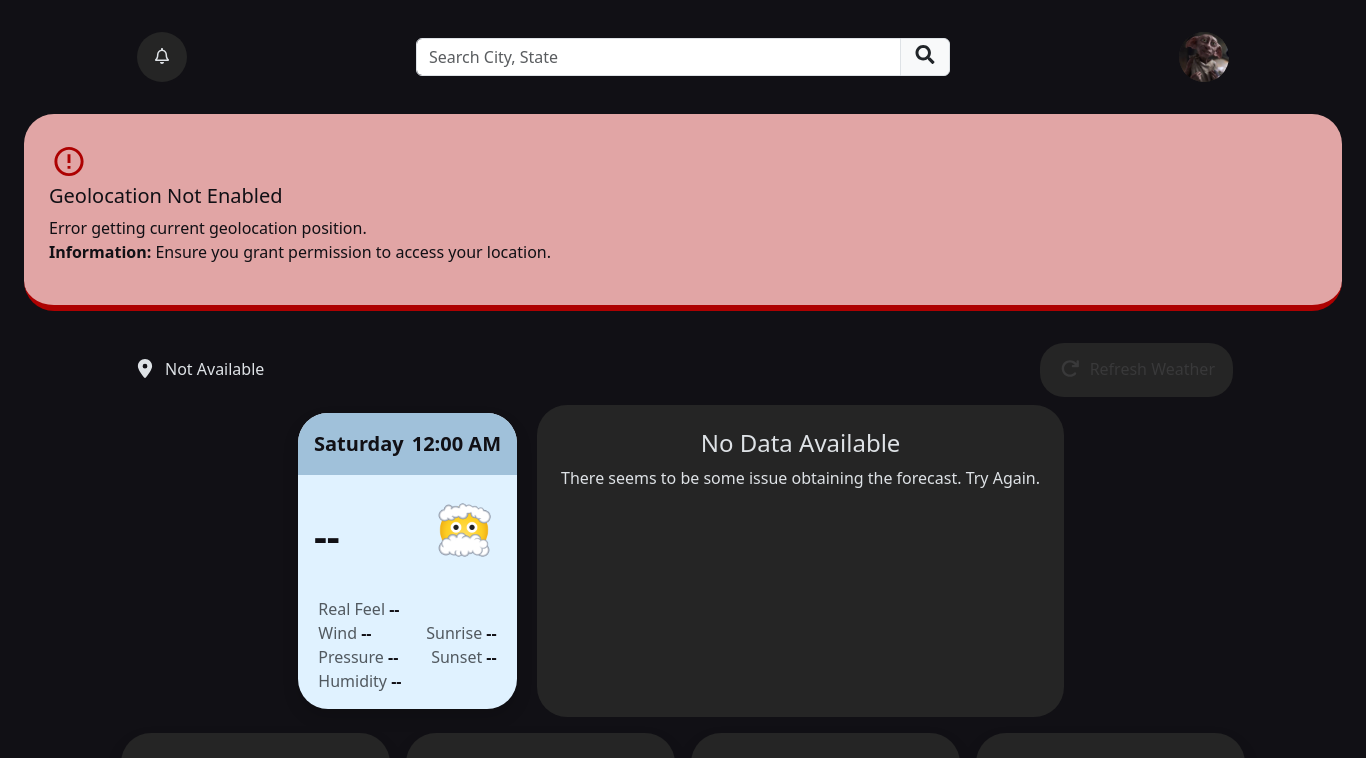
Test: src/component/App › loads location data based on search › handles error when searching for a location › sets error if there is no valid coordinates
The width and height of the screenshot is (1366, 758).
Expected: the text "Ensure you grant permission to access your location." is shown, [156,241,551,263]
Type "Columbia, MD" into the search field labelled "Search City, State" at (658, 57), box [416,38,901,76]
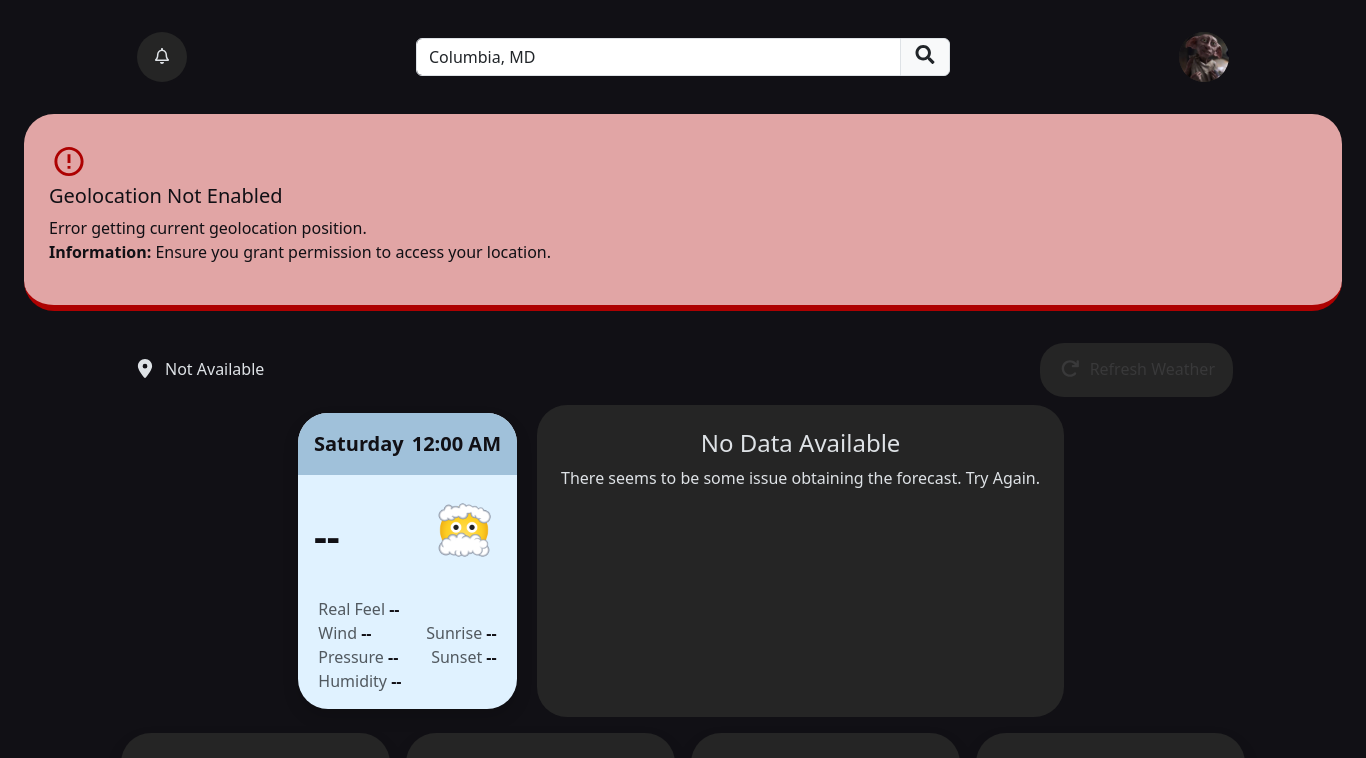
Hover over the button "Refresh Weather" at (1136, 370), box [1040,343,1233,397]
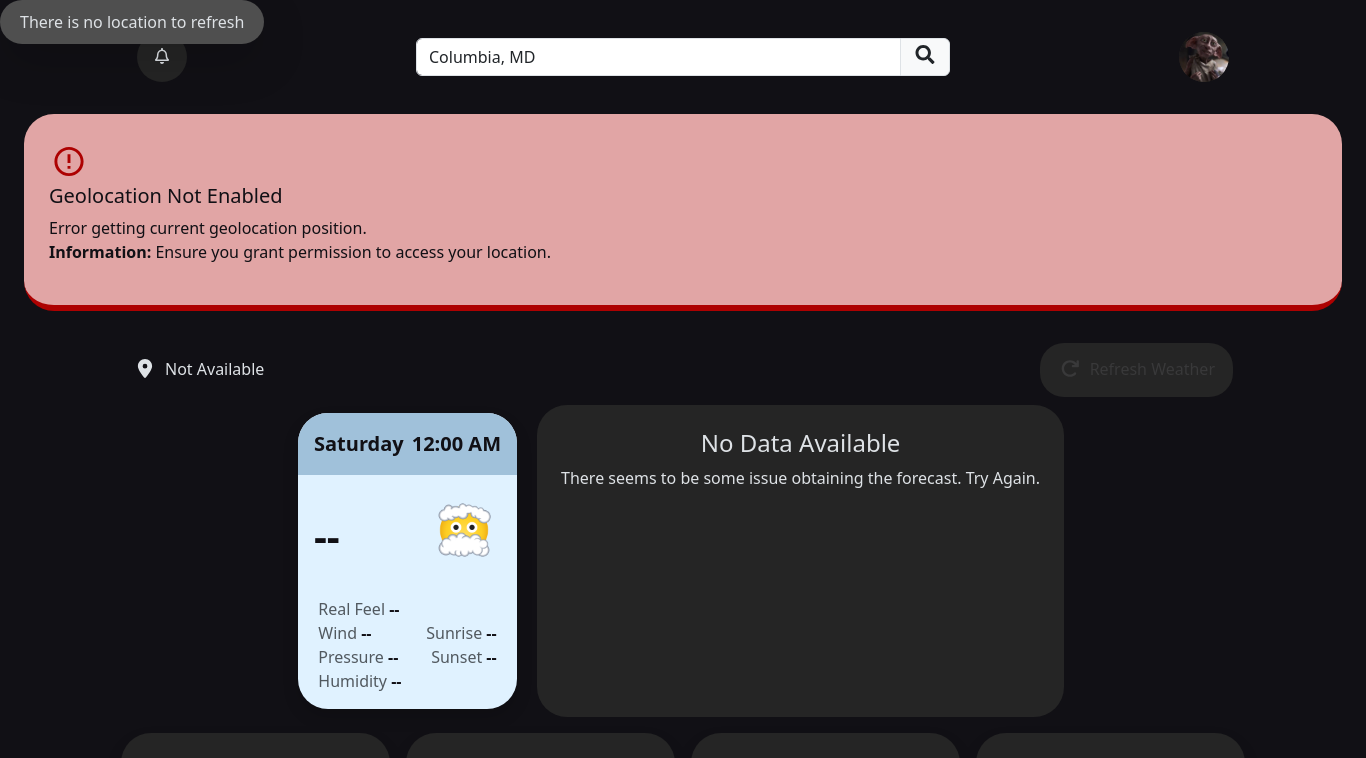
Now the tooltip "There is no location to refresh" is shown, box [0,0,264,44]
Move the pointer off the button "Refresh Weather", box [1040,343,1233,397]
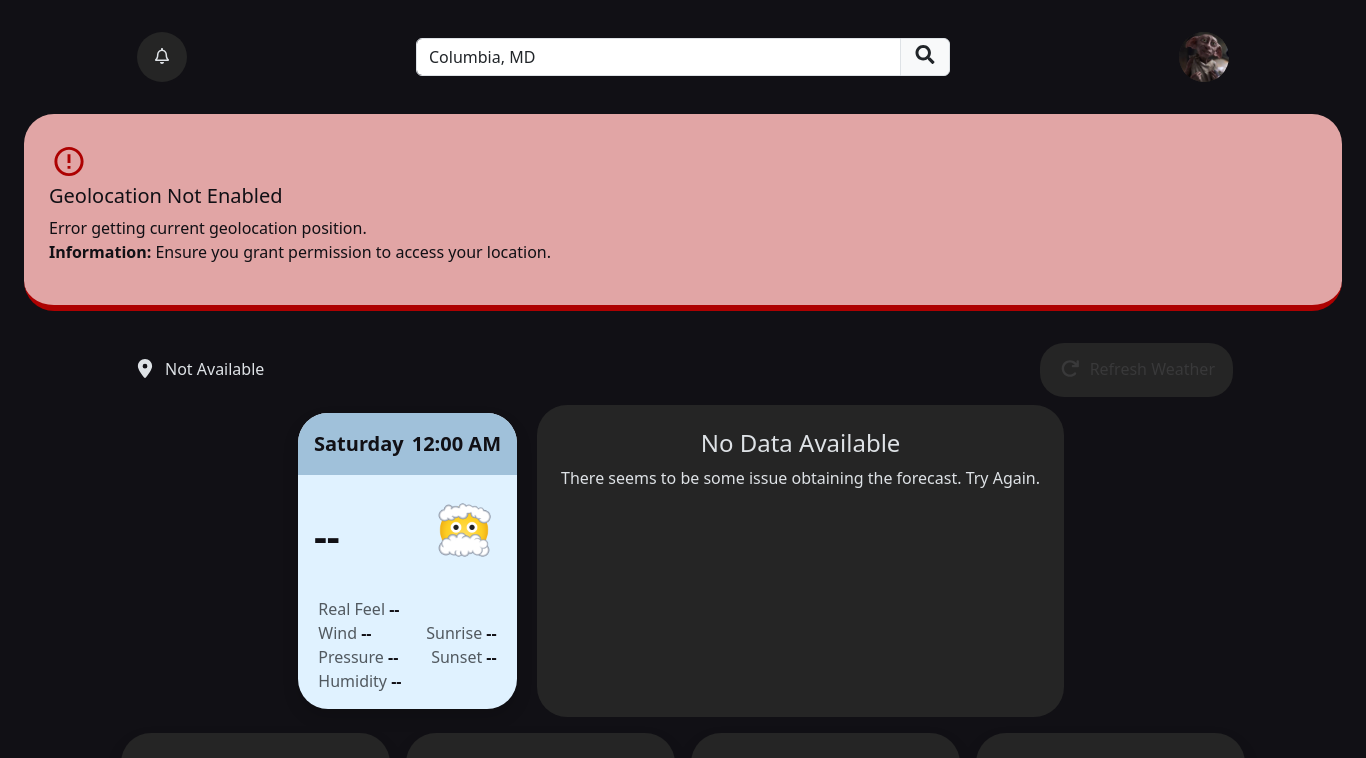
Now the tooltip "There is no location to refresh" is gone
Press Enter in the search field named "Search City, State", box [416,38,901,76]
Wait 20000 ms
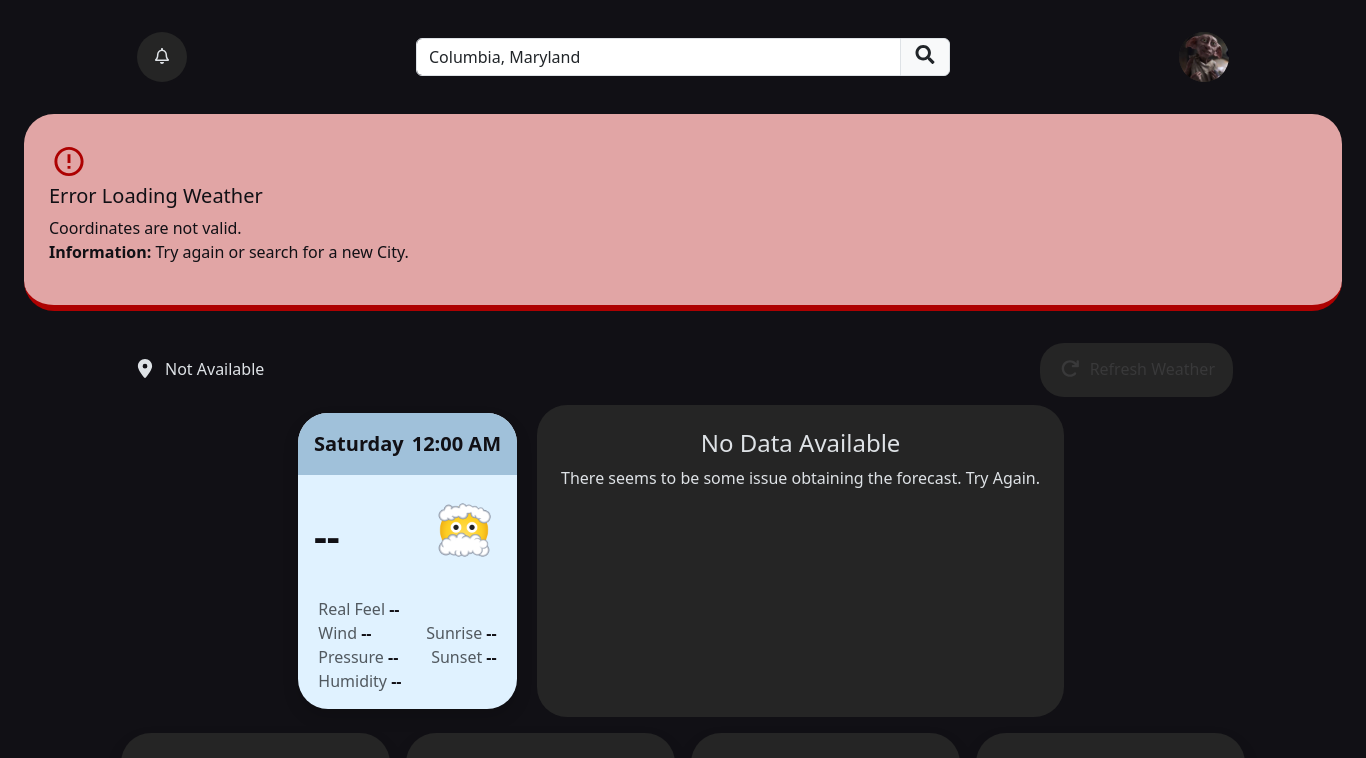
Now the heading "Error Loading Weather" is shown, box [49,182,263,209]
Now the text "Coordinates are not valid." is shown, box [49,217,242,239]
Now the text "Try again or search for a new City." is shown, box [156,241,409,263]
